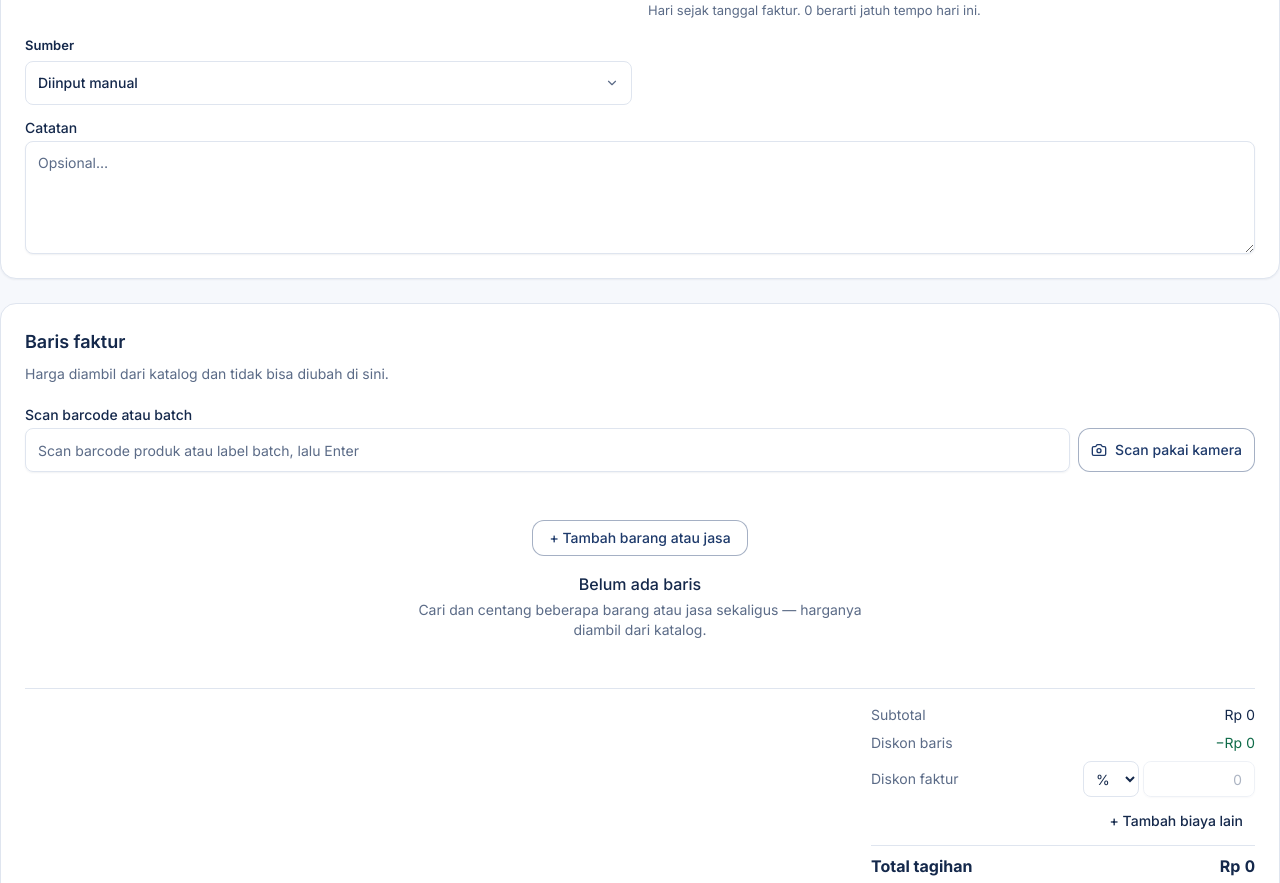
Test: scanning a barcode › a batch label › refuses a lot with no warehouse chosen, or from another one
(page scrolled)
In the field labelled "Scan barcode atau batch": (548, 450) left=25, top=428, right=1070, bottom=472, type "KLG-B26-0001"
Then press Enter
(page scrolled)
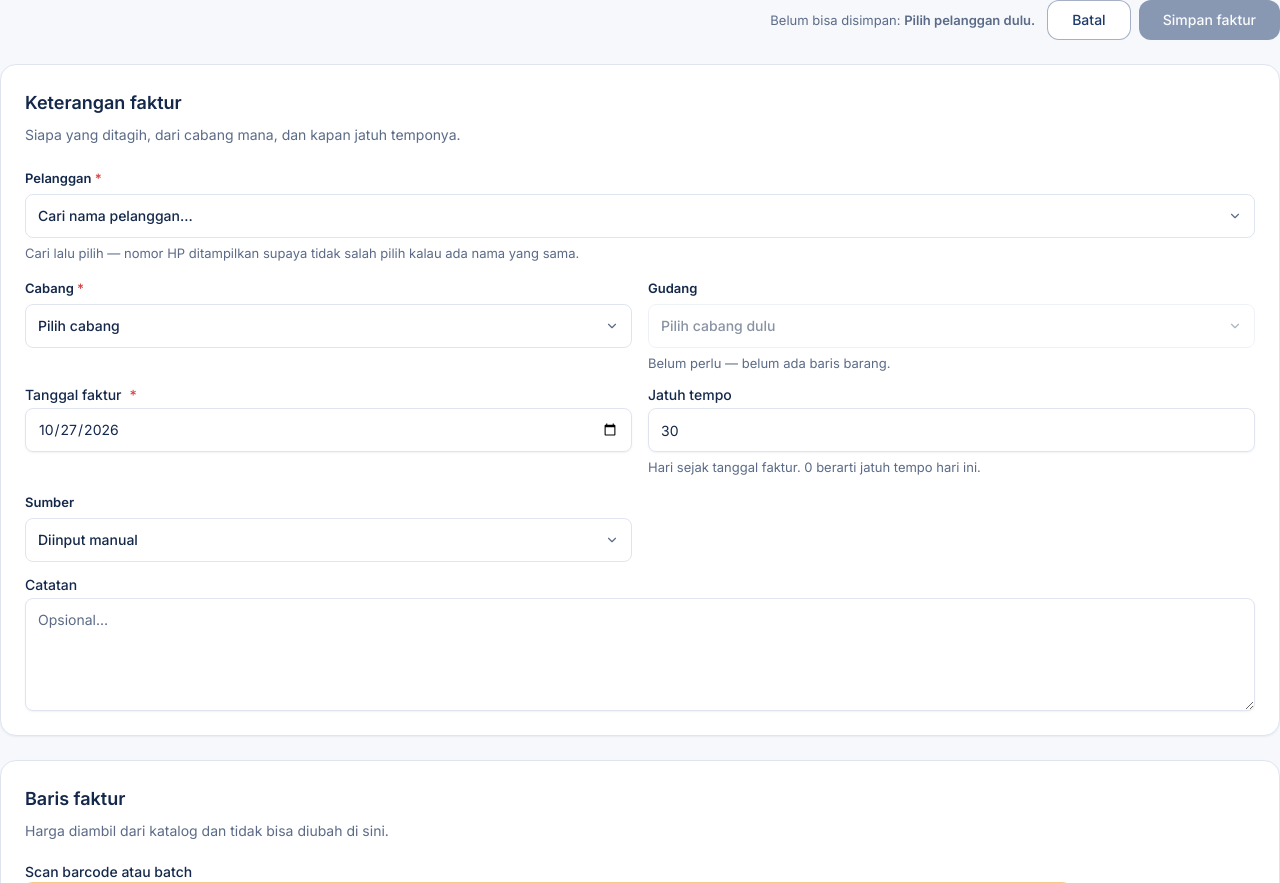
Click the button "Pilih cabang": (79, 325) left=25, top=304, right=632, bottom=348
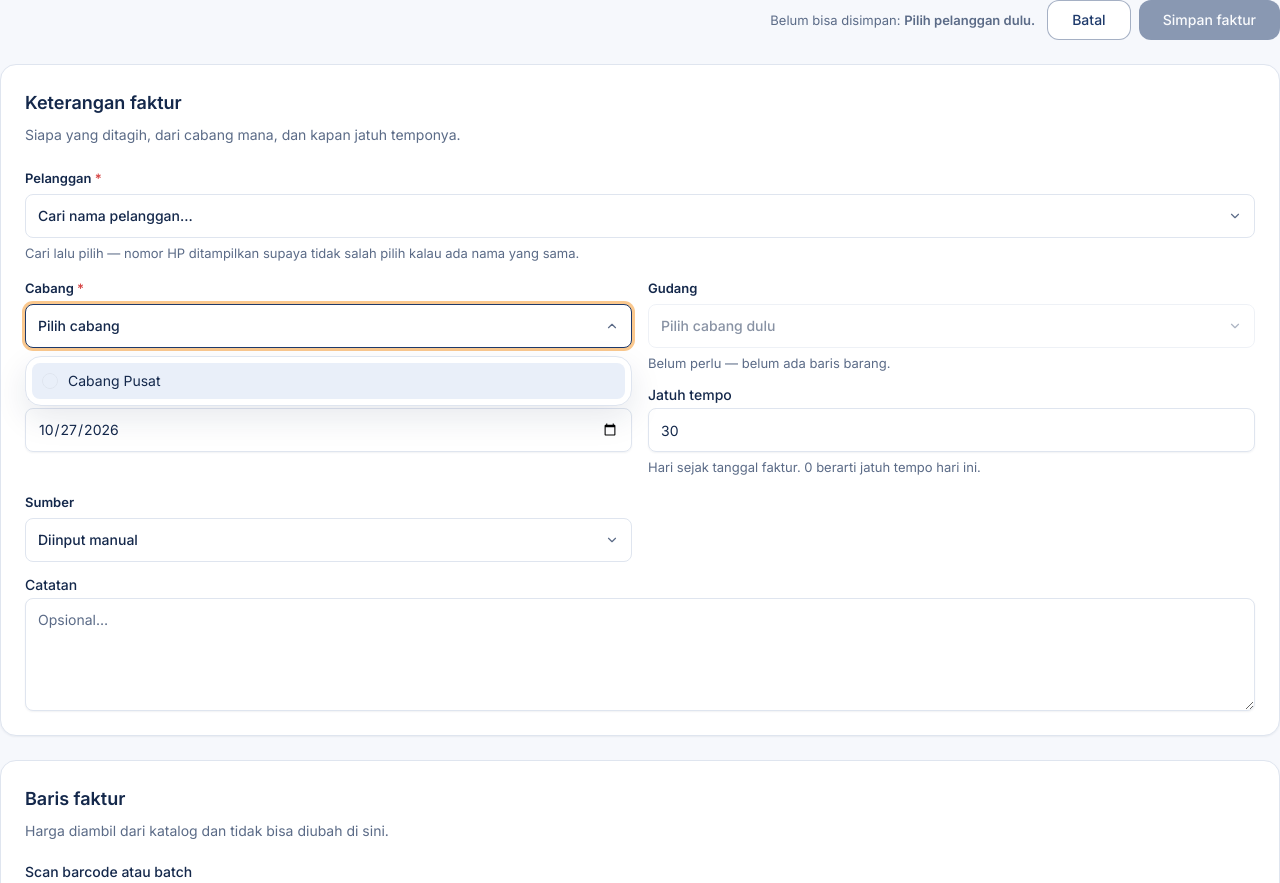
Click the option "Cabang Pusat": (114, 380) left=32, top=363, right=625, bottom=399
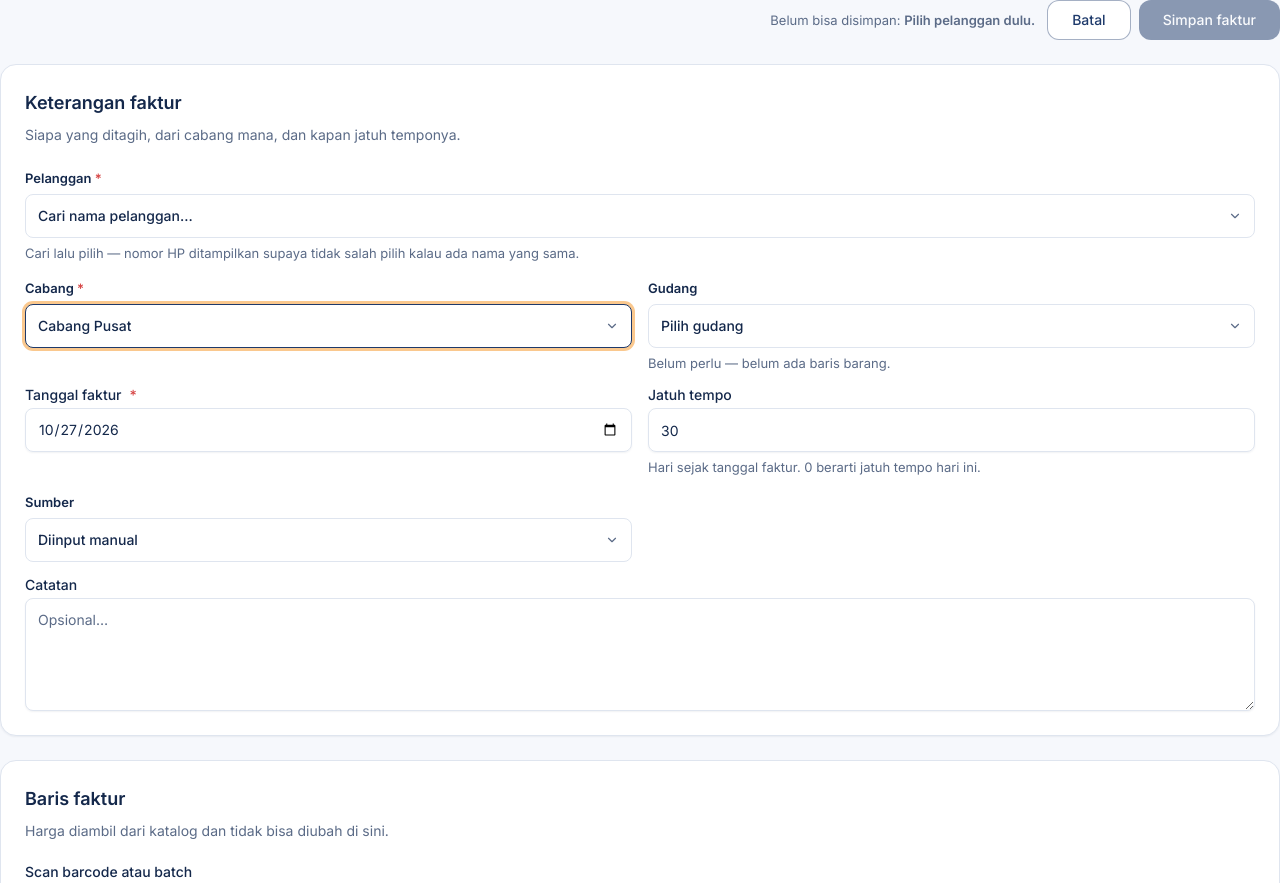
Click the button "Pilih gudang": (702, 325) left=648, top=304, right=1255, bottom=348
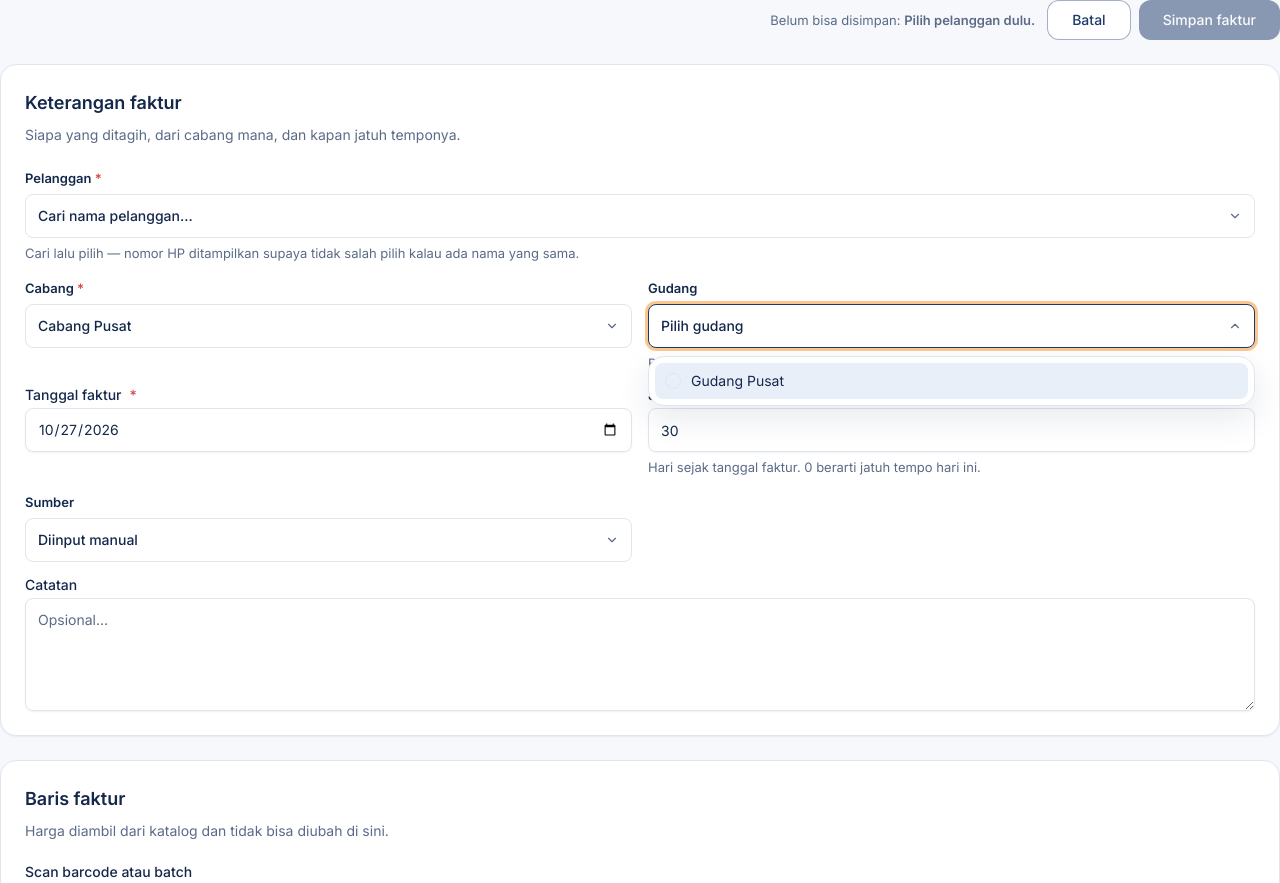
Click the option "Gudang Pusat": (738, 380) left=655, top=363, right=1248, bottom=399
(page scrolled)
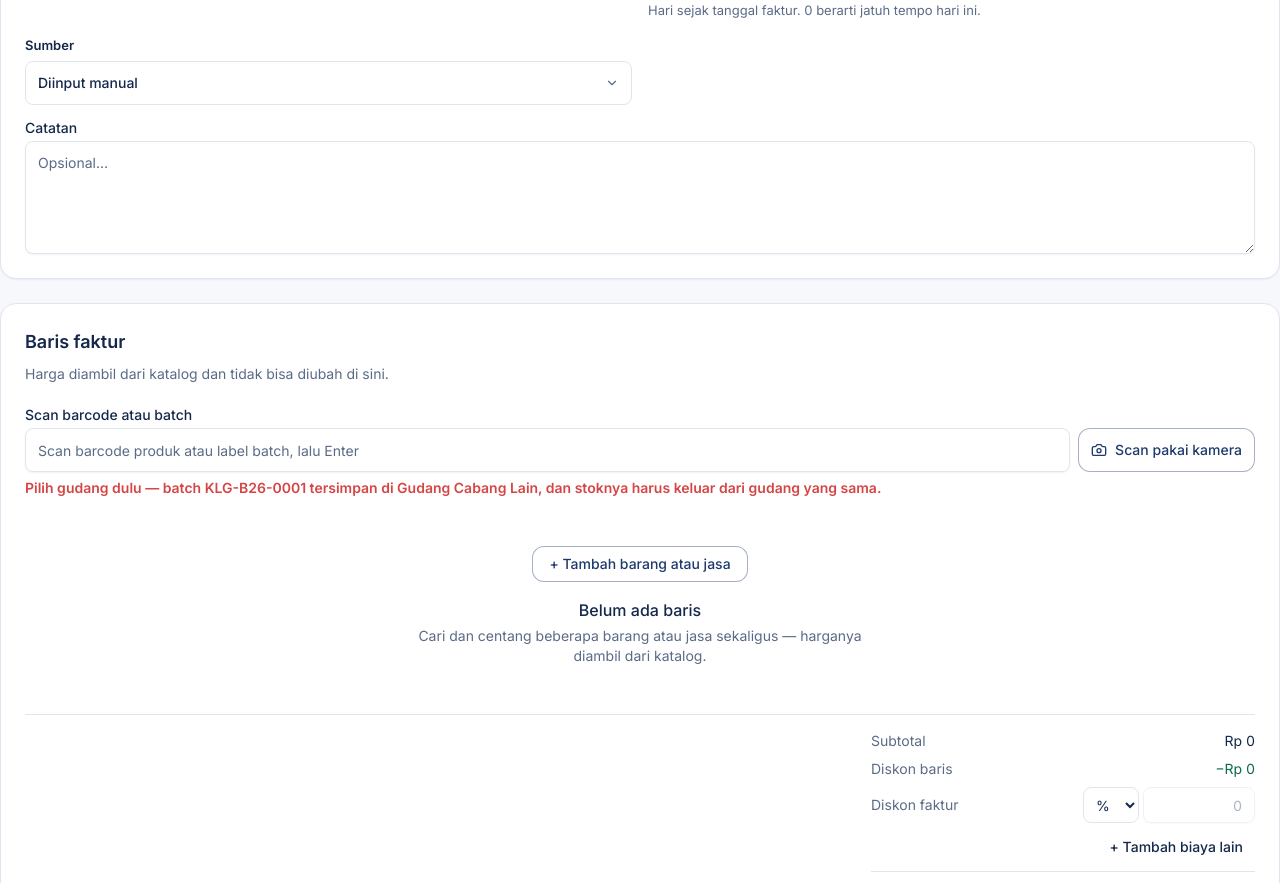
In the field labelled "Scan barcode atau batch": (548, 450) left=25, top=428, right=1070, bottom=472, type "KLG-B26-0001"
Then press Enter
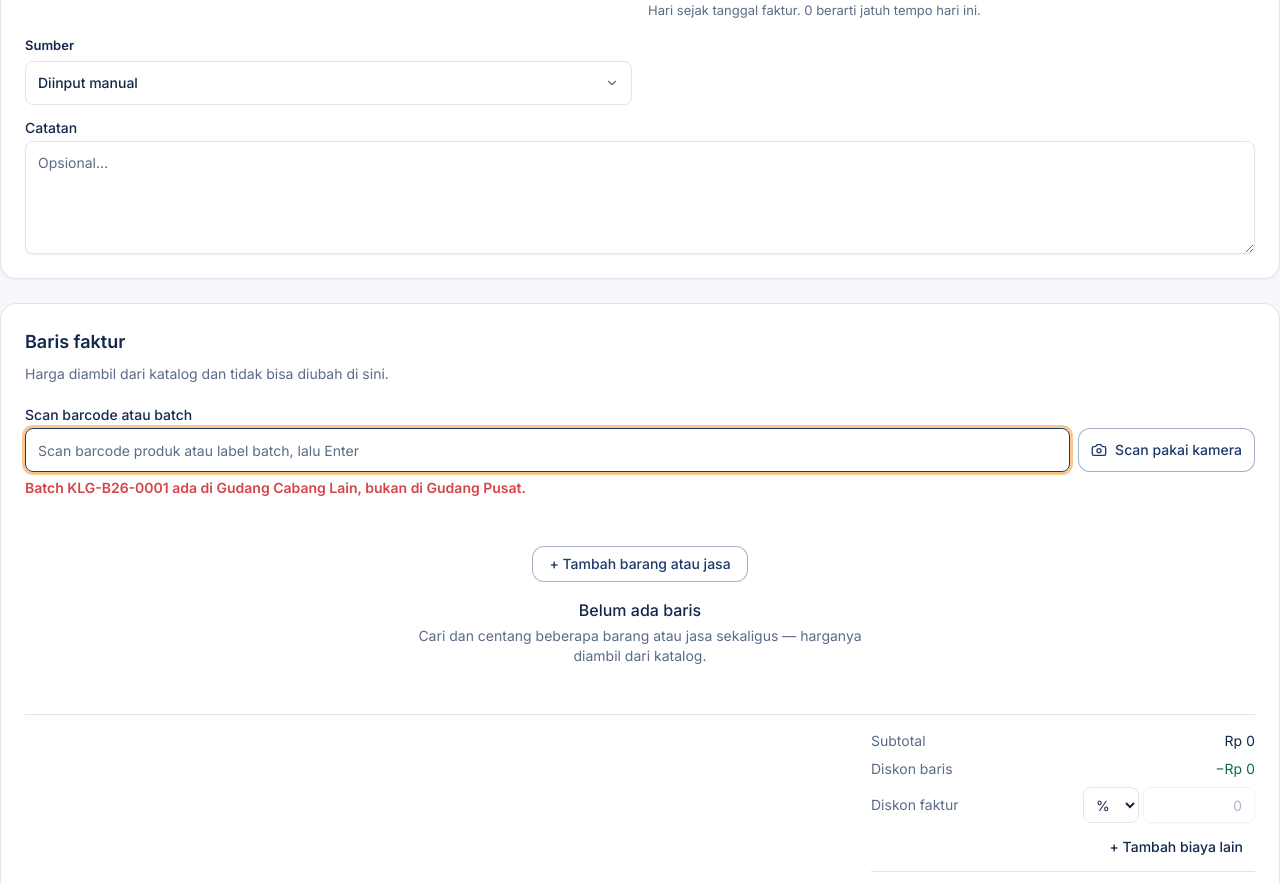
Result: the text "Batch KLG-B26-0001 ada di Gudang Cabang Lain, bukan di Gudang Pusat." is shown at left=25, top=479, right=526, bottom=496
